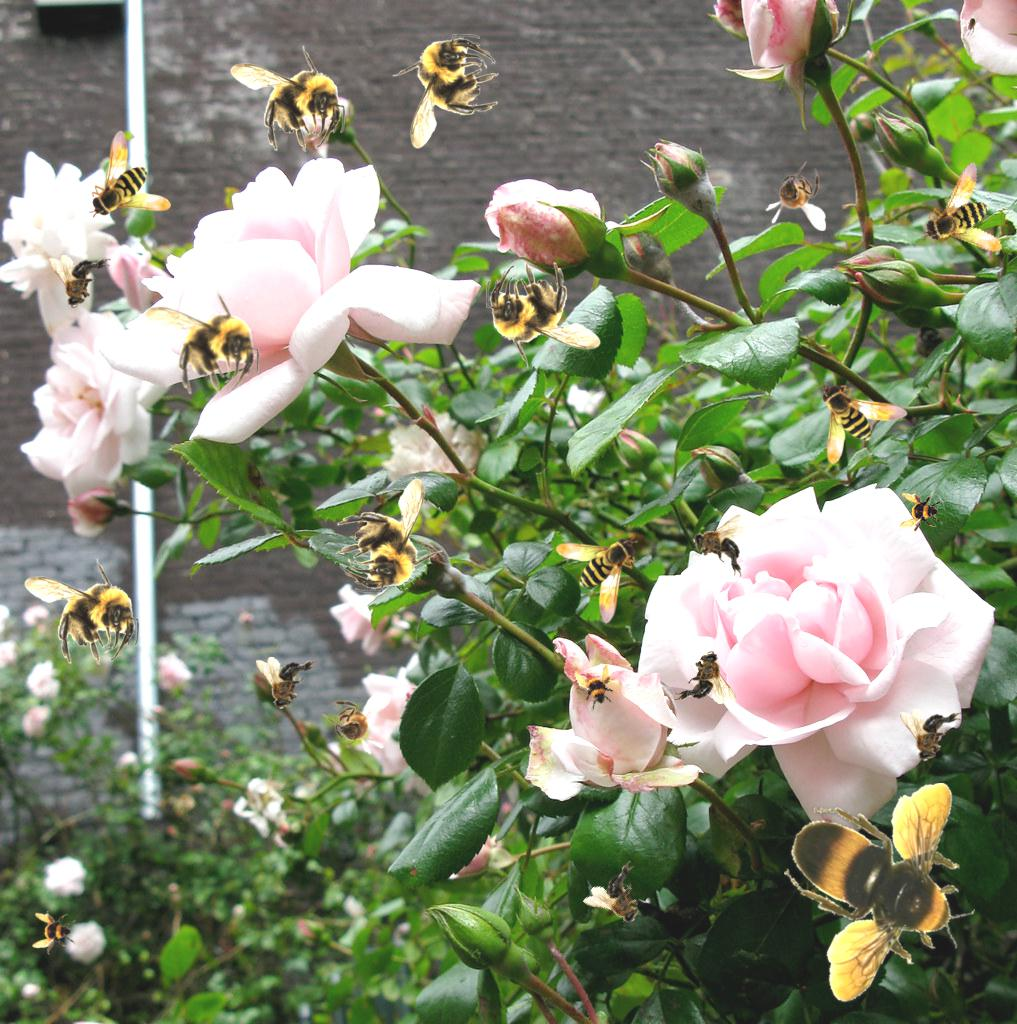Bee: (784, 783, 975, 1003), (144, 288, 259, 395), (392, 34, 499, 149), (486, 261, 601, 368), (336, 478, 443, 593), (230, 45, 345, 152), (24, 558, 139, 665), (919, 153, 1017, 261), (89, 130, 171, 218), (556, 536, 638, 624), (820, 382, 908, 464), (580, 857, 663, 939), (321, 694, 391, 755), (765, 161, 826, 231), (49, 255, 111, 308), (674, 651, 736, 704), (900, 709, 962, 762), (692, 515, 745, 577), (256, 657, 318, 710), (567, 660, 623, 716), (32, 911, 76, 955), (899, 491, 943, 535)
